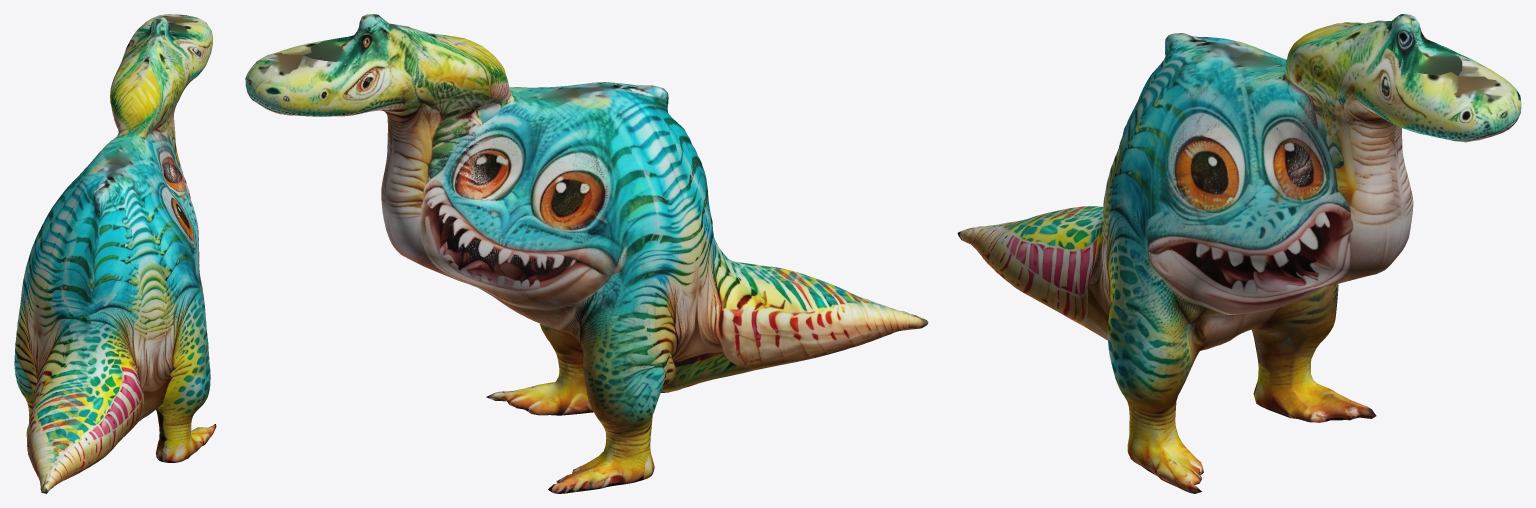
File: dinosaur.glb
3 views of the same model, side by side, from view 1: azimuth 30°, elevation 25°; view 2: azimuth 150°, elevation 25°; view 3: azimuth 270°, elevation 25° (orthographic). The views are drawn at different scales.
Parts seen in each view (by area): view 1: Object_4; view 2: Object_4; view 3: Object_4.
Boxes of the visible parts, x1,y1,x2,y2 form: Object_4: (14,14,216,493); Object_4: (245,14,928,493); Object_4: (957,14,1521,493).
Bounding box in the file's own units: 0.9986 × 0.9663 × 1.
Materials: 1 (1 with a texture image).
